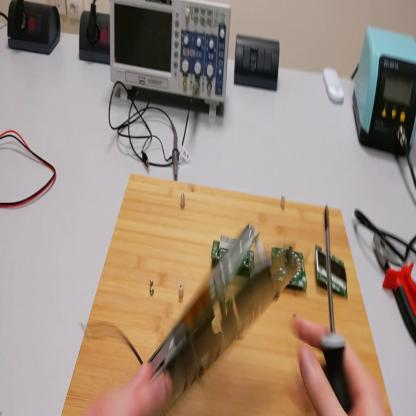hand: (289, 316, 393, 415), (88, 357, 175, 414)
low voltage board: (117, 221, 312, 416)
oscilloscope probe tip: (172, 124, 181, 182)
pliers: (374, 230, 416, 342)
screwdriver-: (324, 205, 353, 410)
socket: (7, 1, 63, 59), (77, 9, 112, 66)
welder station: (354, 29, 416, 154)
working area: (62, 174, 393, 414)
